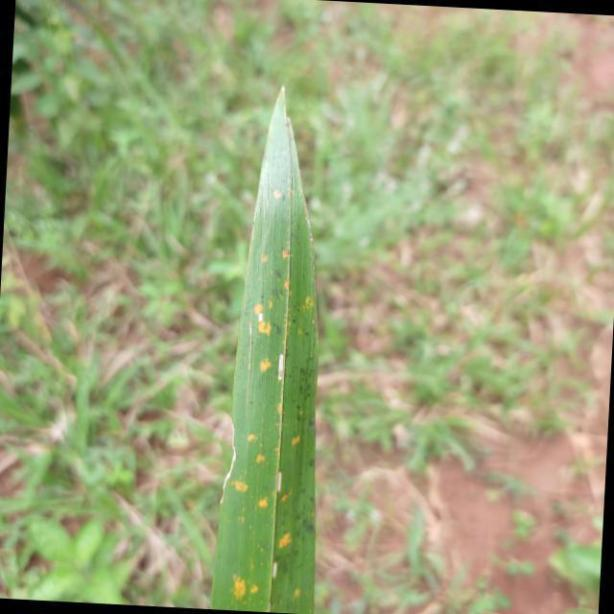Kalium: (213, 72, 331, 614)
